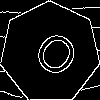O: (24, 27, 82, 88)
